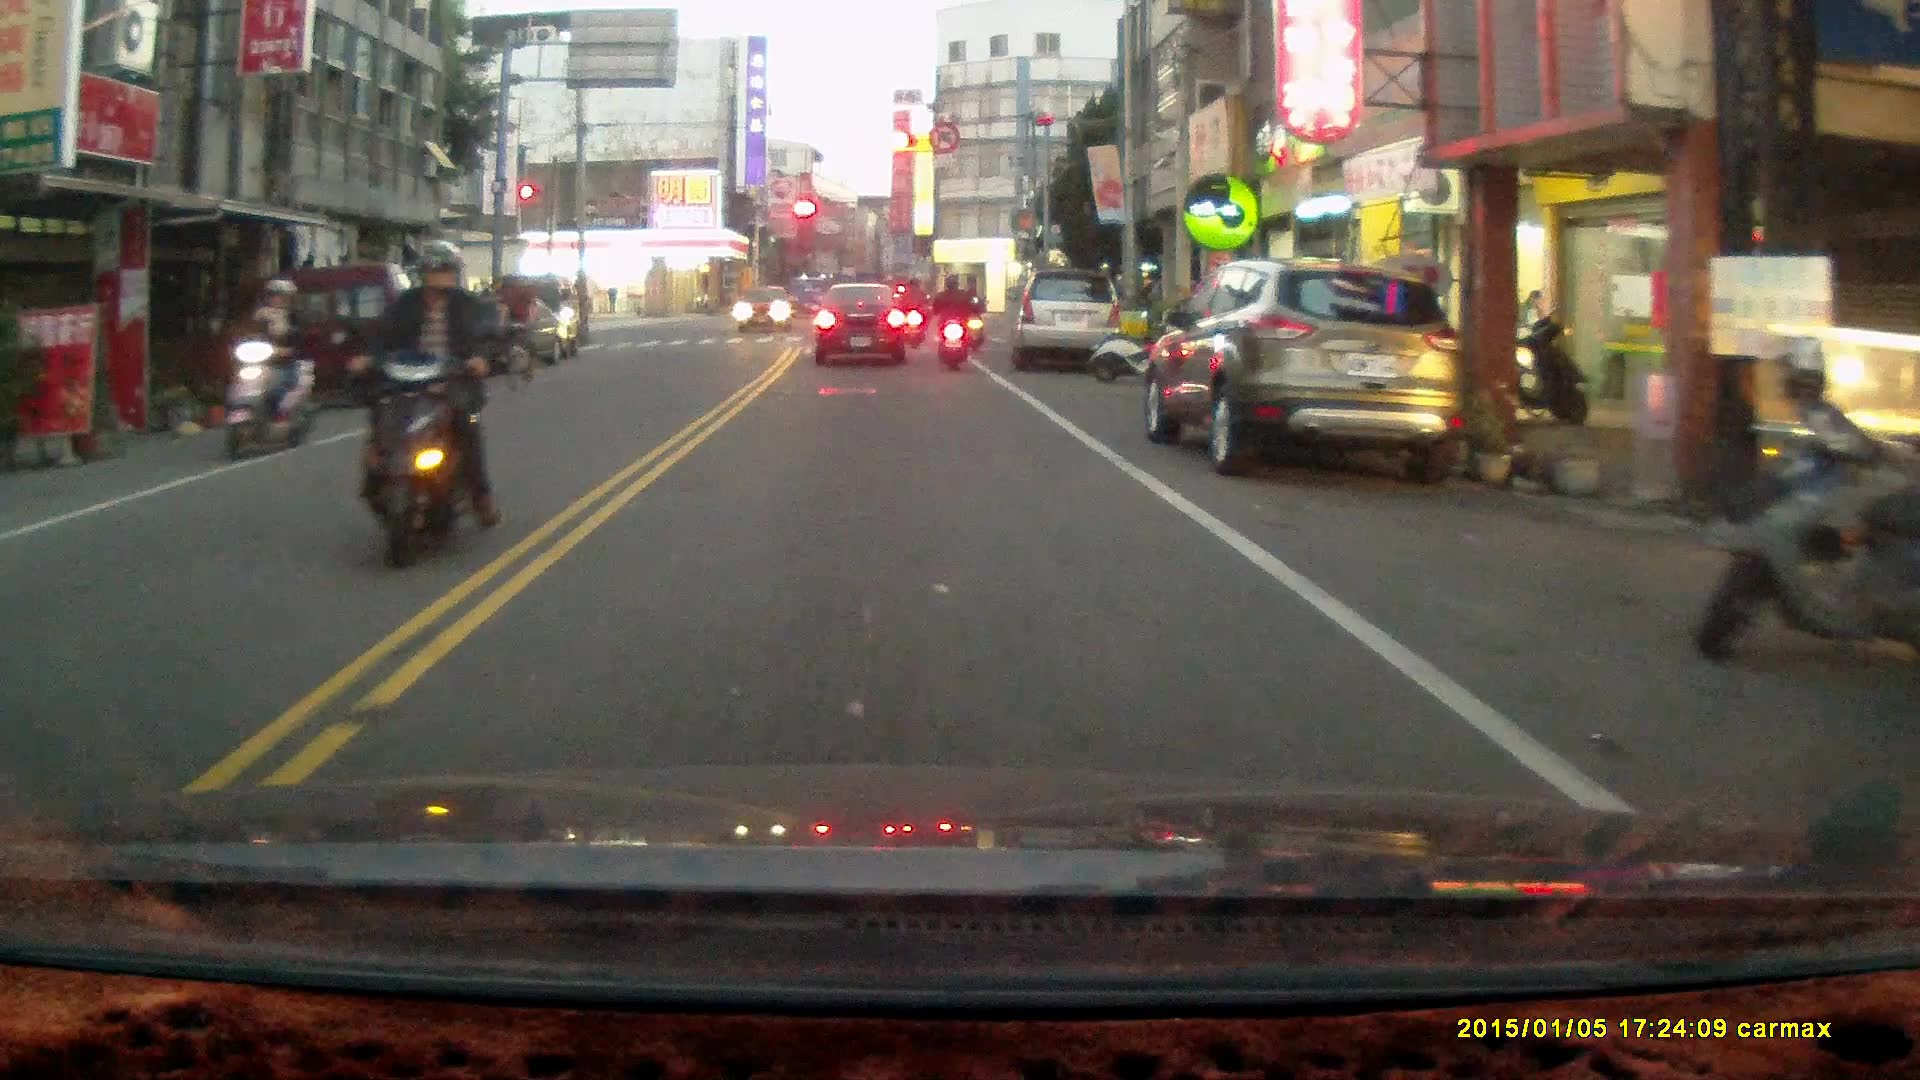rider: (342, 236, 503, 568), (218, 278, 318, 461), (493, 268, 537, 393), (926, 269, 973, 372), (896, 271, 929, 346), (959, 279, 986, 351)
vehicle: (1149, 257, 1458, 484), (178, 263, 432, 415), (1014, 271, 1125, 375), (815, 281, 912, 362), (727, 277, 790, 331)
